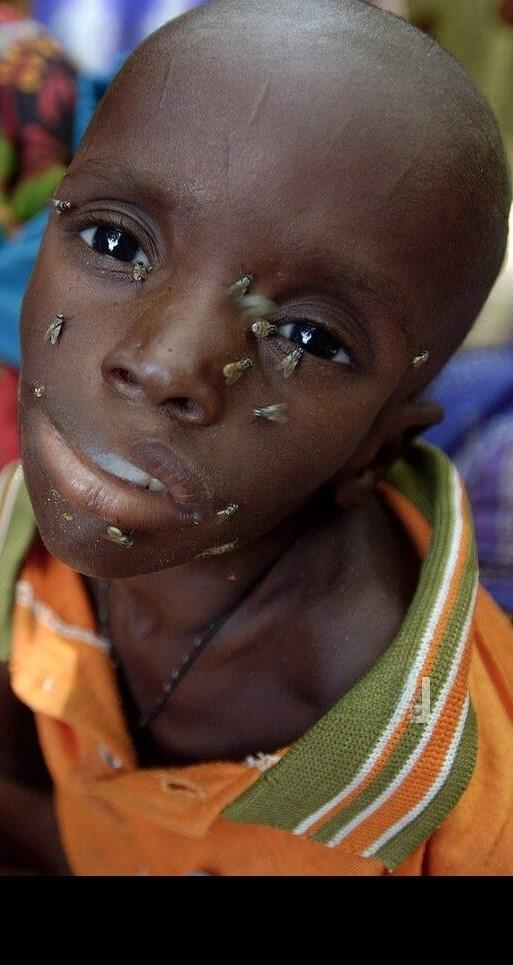Stunting: (10, 42, 513, 680)
